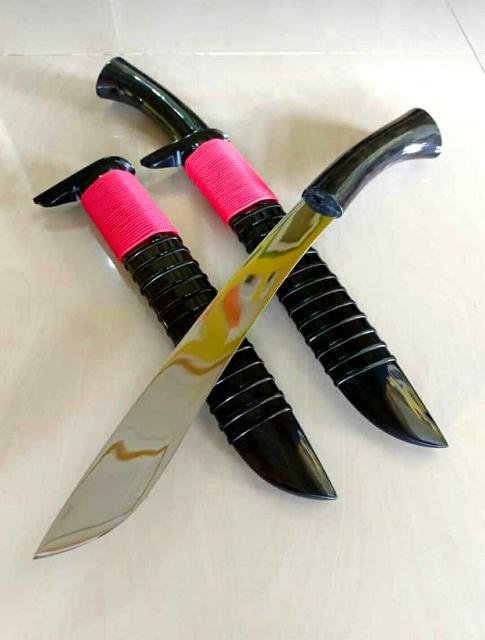long knife: (31, 108, 442, 562), (96, 56, 448, 448)
